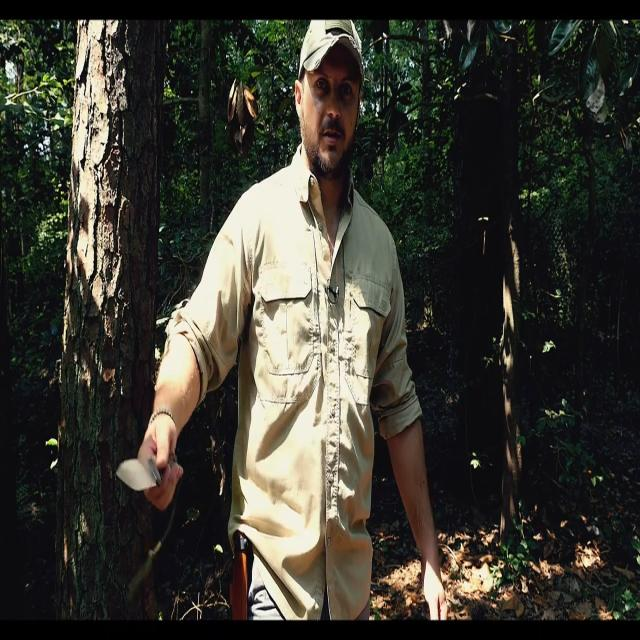knife: (115, 452, 165, 500)
